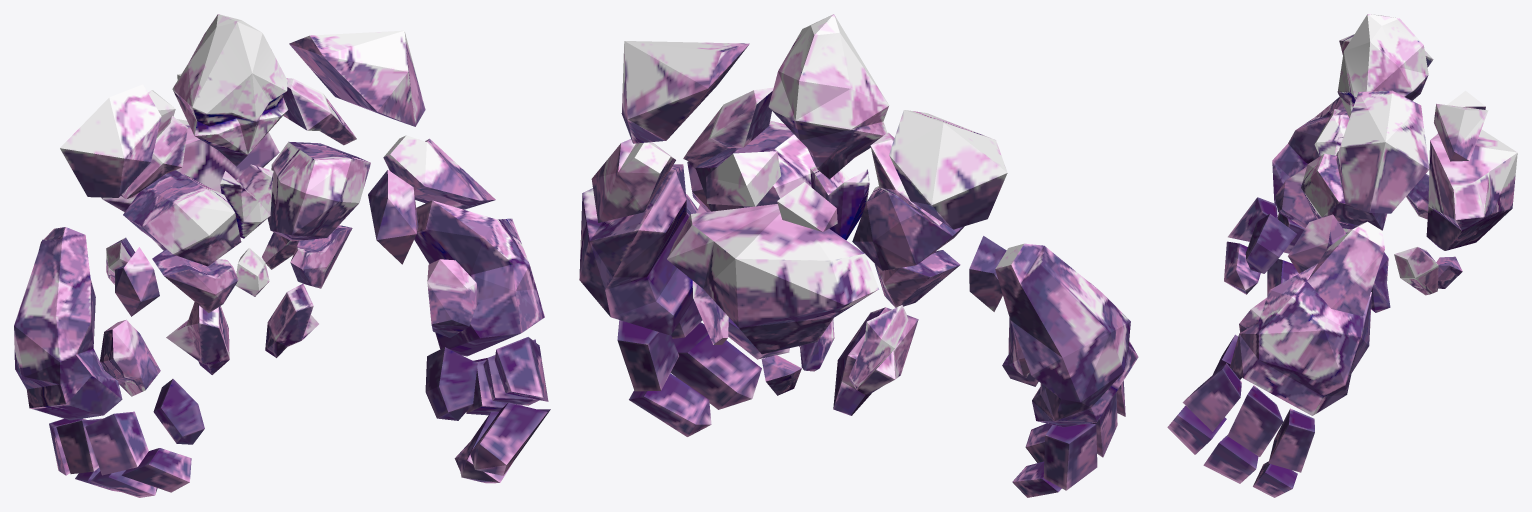
File: elemental2_da3edcf7.glb
3 views of the same model, side by side, from view 1: azimuth 30°, elevation 25°; view 2: azimuth 150°, elevation 25°; view 3: azimuth 270°, elevation 25° (orthographic). The views are drawn at different scales.
Size of the model in its own units: 2.96 by 2.69 by 2.1.
1 material, 1 textured.
